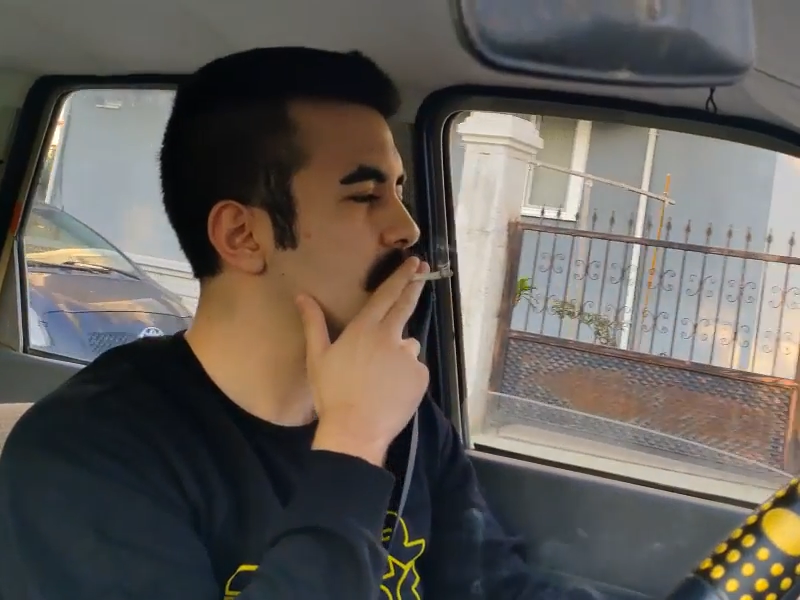sigara: (397, 261, 457, 290)
